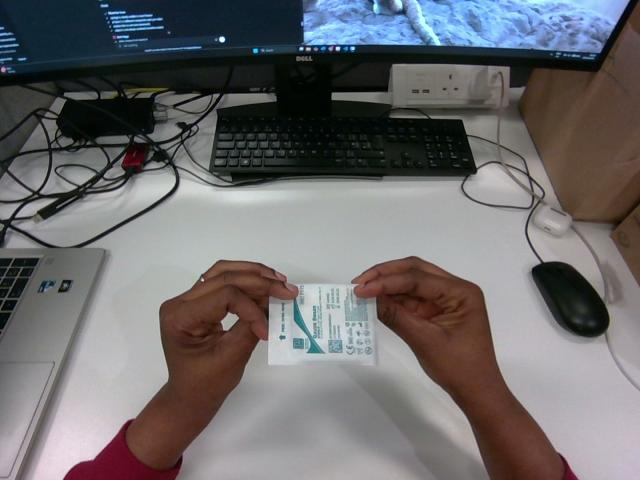gauze: (268, 284, 376, 364)
